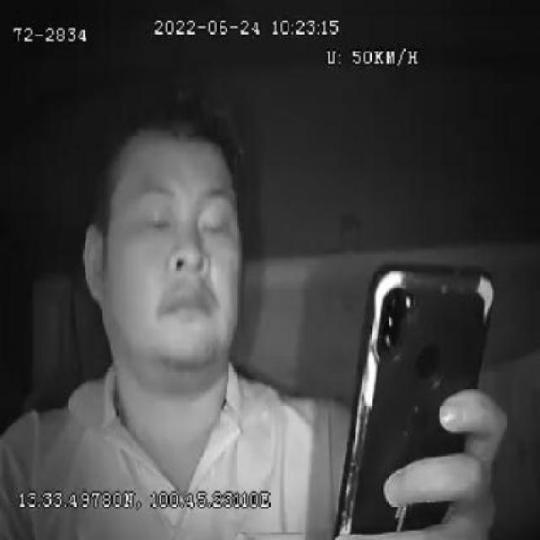phone: (332, 259, 492, 540)
